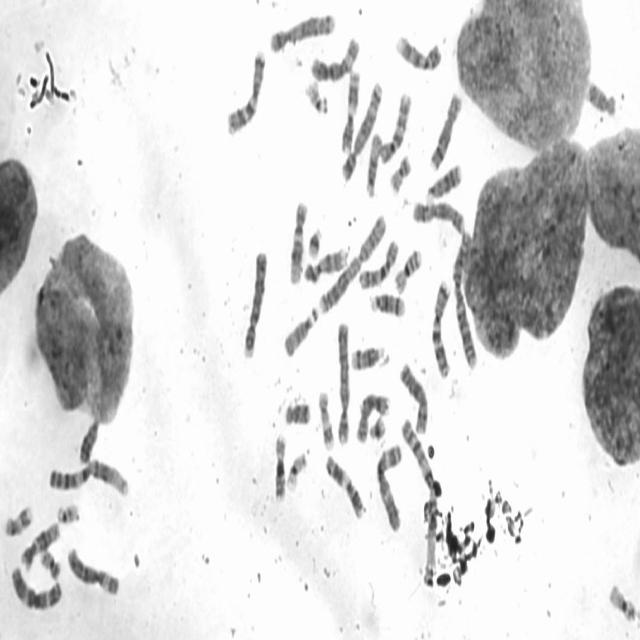A1: (400, 417, 438, 580), (46, 456, 129, 498)
A2: (316, 210, 388, 315), (450, 227, 479, 372)
A3: (8, 561, 64, 613), (374, 439, 403, 534)
B4: (241, 245, 268, 360), (335, 317, 350, 447)
B5: (339, 78, 384, 183), (268, 8, 336, 54)
C10: (378, 88, 412, 165), (356, 236, 399, 291)
C11: (322, 450, 366, 522), (340, 66, 360, 155)
C12: (18, 518, 61, 572), (286, 196, 308, 287)
C6: (65, 542, 121, 599), (308, 33, 360, 84)
C7: (224, 44, 266, 138), (429, 274, 452, 380)
C8: (428, 90, 462, 172), (354, 389, 390, 444)
C9: (393, 30, 443, 74), (302, 242, 349, 286)
D13: (424, 160, 462, 203), (76, 412, 100, 466)
D14: (348, 341, 388, 373), (368, 289, 407, 318)
D15: (282, 302, 319, 359), (363, 129, 383, 200)
E16: (392, 245, 423, 296), (272, 430, 288, 502)
E17: (316, 387, 335, 452), (2, 500, 34, 538)
E18: (584, 76, 617, 118), (283, 398, 311, 427)
F19: (606, 580, 638, 624), (284, 448, 308, 493)
F20: (388, 152, 412, 196), (37, 546, 62, 581)
G21: (306, 224, 324, 262), (367, 412, 387, 441)
G22: (304, 76, 329, 118), (55, 498, 80, 526)
X: (398, 358, 430, 438), (410, 196, 466, 237)
